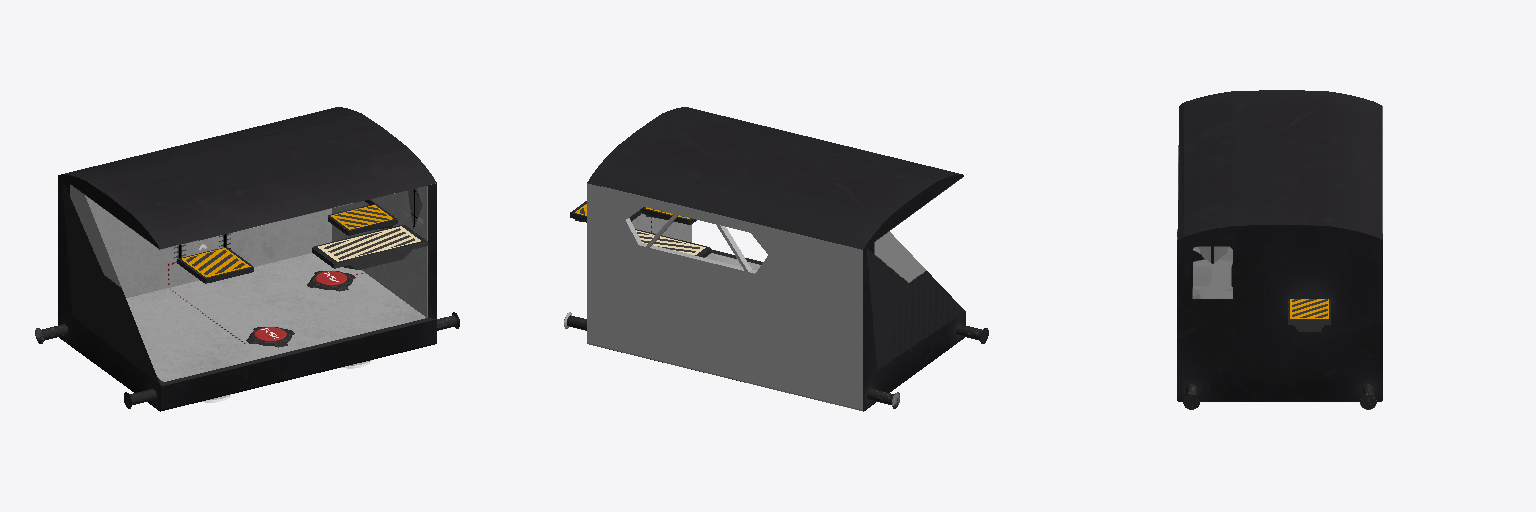
3 renders of one model, left to right at view 1: azimuth 30°, elevation 25°; view 2: azimuth 150°, elevation 25°; view 3: azimuth 270°, elevation 25°, orthographic.
Parts seen in each view (by area): view 1: F_floor, R_roof, W_left_wall, W_back_wall, W_right_wall, S_door_platform, M_moving_platform, M_question_platform_2; view 2: W_back_wall, R_roof, F_floor, W_left_wall, W_right_wall, S_corner_platform; view 3: W_right_wall, R_roof, F_floor, M_question_platform_1.
Boxes of the visible parts, <box> form: F_floor: <box>35,253,459,411</box>; R_roof: <box>64,107,436,249</box>; W_left_wall: <box>58,174,163,385</box>; W_back_wall: <box>85,195,331,297</box>; W_right_wall: <box>332,183,436,318</box>; S_door_platform: <box>312,225,427,269</box>; M_moving_platform: <box>177,247,253,283</box>; M_question_platform_2: <box>328,204,397,235</box>; W_back_wall: <box>587,183,862,385</box>; R_roof: <box>587,107,959,249</box>; F_floor: <box>564,249,988,411</box>; W_left_wall: <box>863,174,965,385</box>; W_right_wall: <box>632,213,691,242</box>; S_corner_platform: <box>635,229,710,257</box>; W_right_wall: <box>1177,225,1382,376</box>; R_roof: <box>1177,90,1382,246</box>; F_floor: <box>1177,377,1382,409</box>; M_question_platform_1: <box>1288,299,1330,331</box>.
Bounding box in the file's own units: 13.94 × 7.33 × 7.19.
Materials: 6 (6 with a texture image).